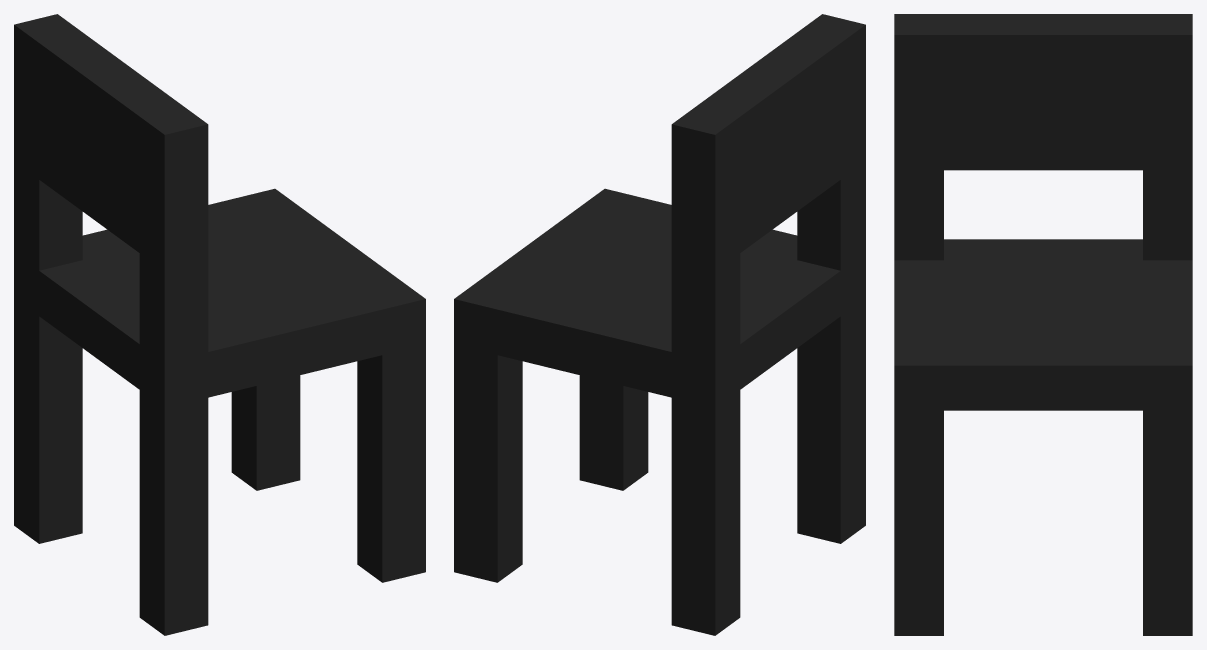
The model's file is dice_2og-56-stuhl esstisch.obj.
The picture shows the model from 3 angles, left to right: view 1: azimuth 30°, elevation 25°; view 2: azimuth 150°, elevation 25°; view 3: azimuth 270°, elevation 25°; orthographic projection.
Visible parts, largest first — view 1: stuhl esstisch; view 2: stuhl esstisch; view 3: stuhl esstisch.
Boxes of the visible parts, <box> form: stuhl esstisch: <box>14,14,425,635</box>; stuhl esstisch: <box>454,14,865,635</box>; stuhl esstisch: <box>894,14,1192,635</box>.
Size of the model in its own units: 0.6 by 1.1 by 0.6.
Materials: 1 (1 with a texture image).
